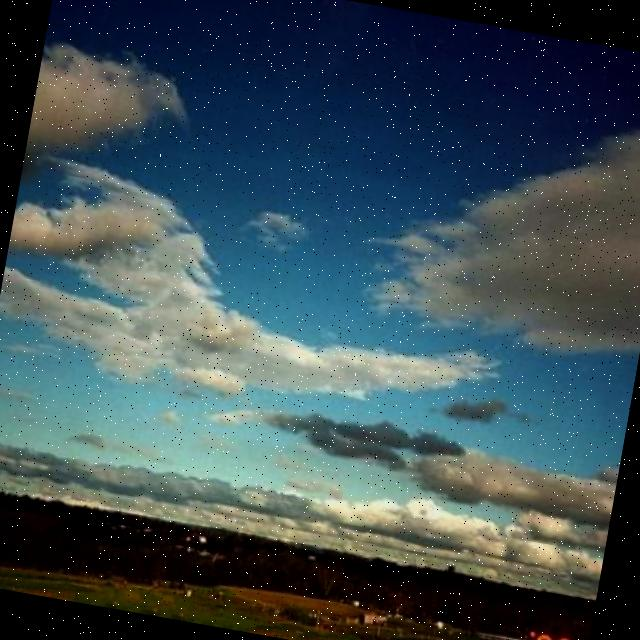Sc: (1, 31, 640, 520)
